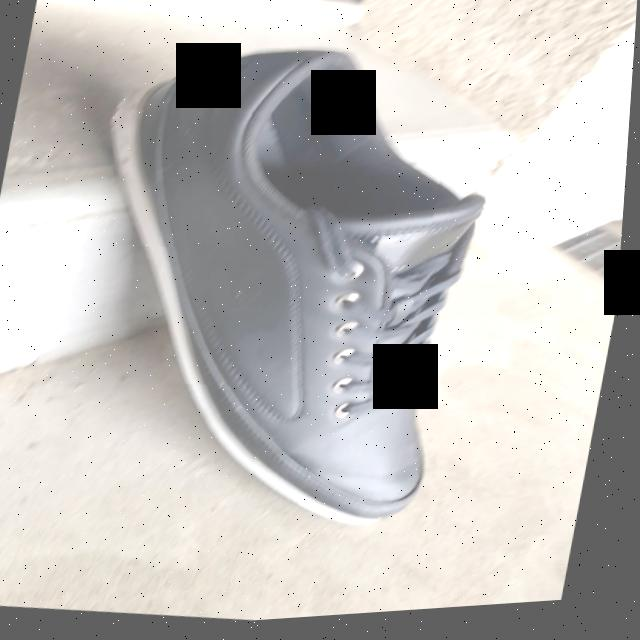shoe: (116, 54, 488, 533)
